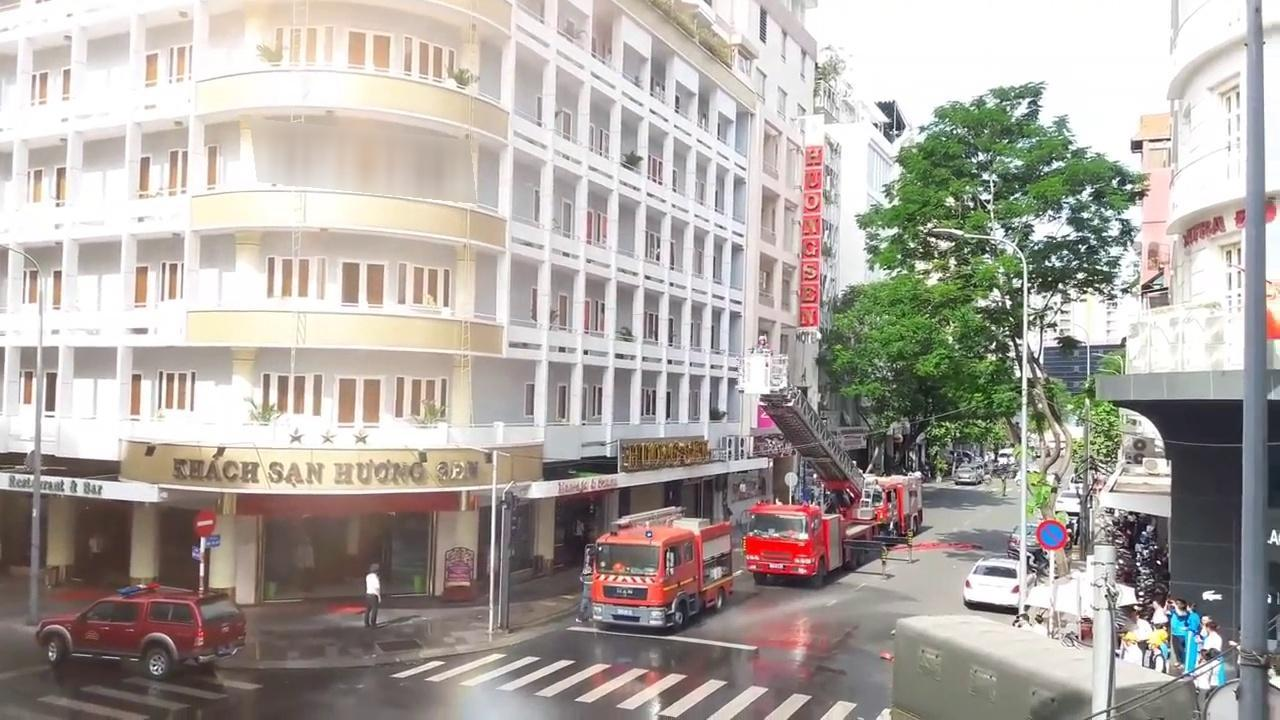xe cuu hoa: (889, 609, 1203, 719), (593, 506, 728, 628), (745, 470, 876, 581), (854, 472, 924, 542)
xe hoi: (36, 579, 246, 677), (962, 557, 1030, 606), (1005, 522, 1046, 557)
